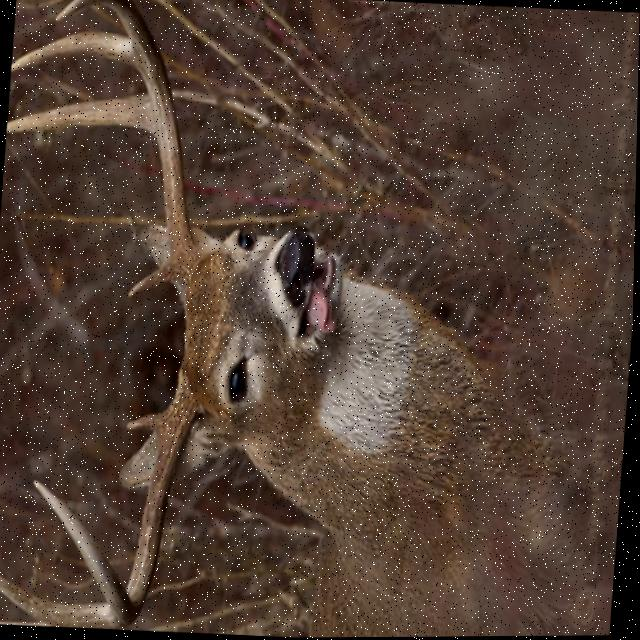L-F: (56, 0, 204, 287)
L-G1: (130, 260, 177, 297)
L-G2: (7, 95, 155, 134)
L-G3: (11, 30, 135, 71)
R-F: (35, 367, 206, 629)
R-G1: (128, 411, 168, 438)
R-G3: (0, 573, 123, 629)
